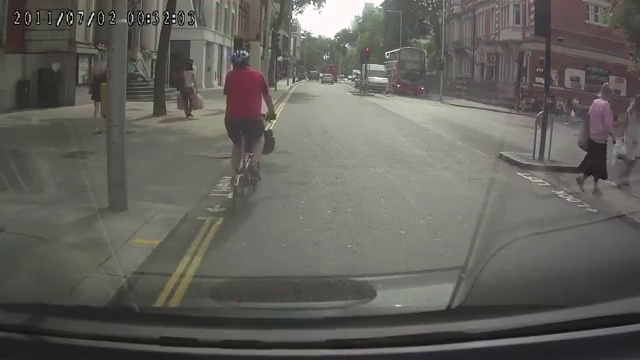cyclist_back: (221, 47, 277, 222)
